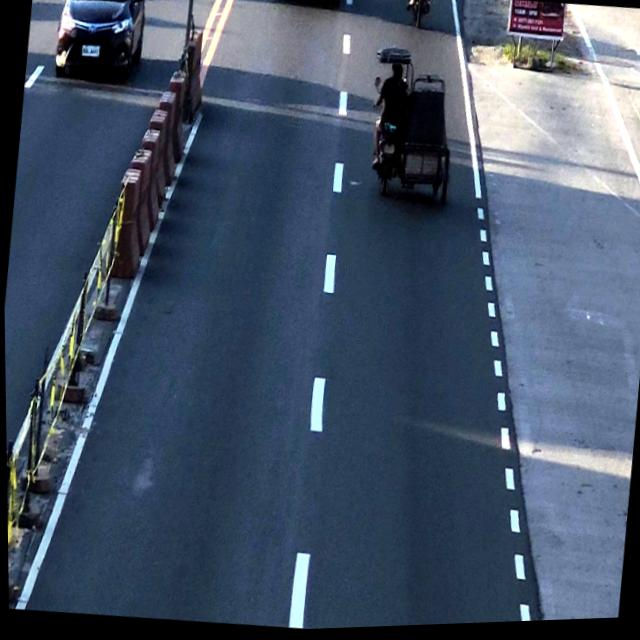Tricycle: (366, 42, 459, 204)
